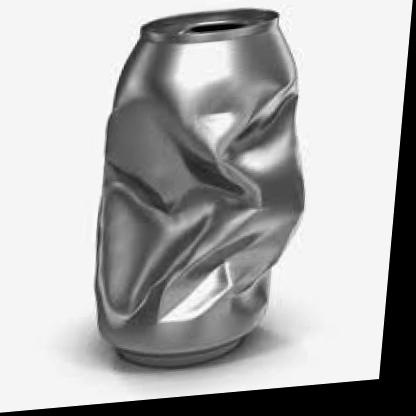trash: (96, 9, 303, 365)
